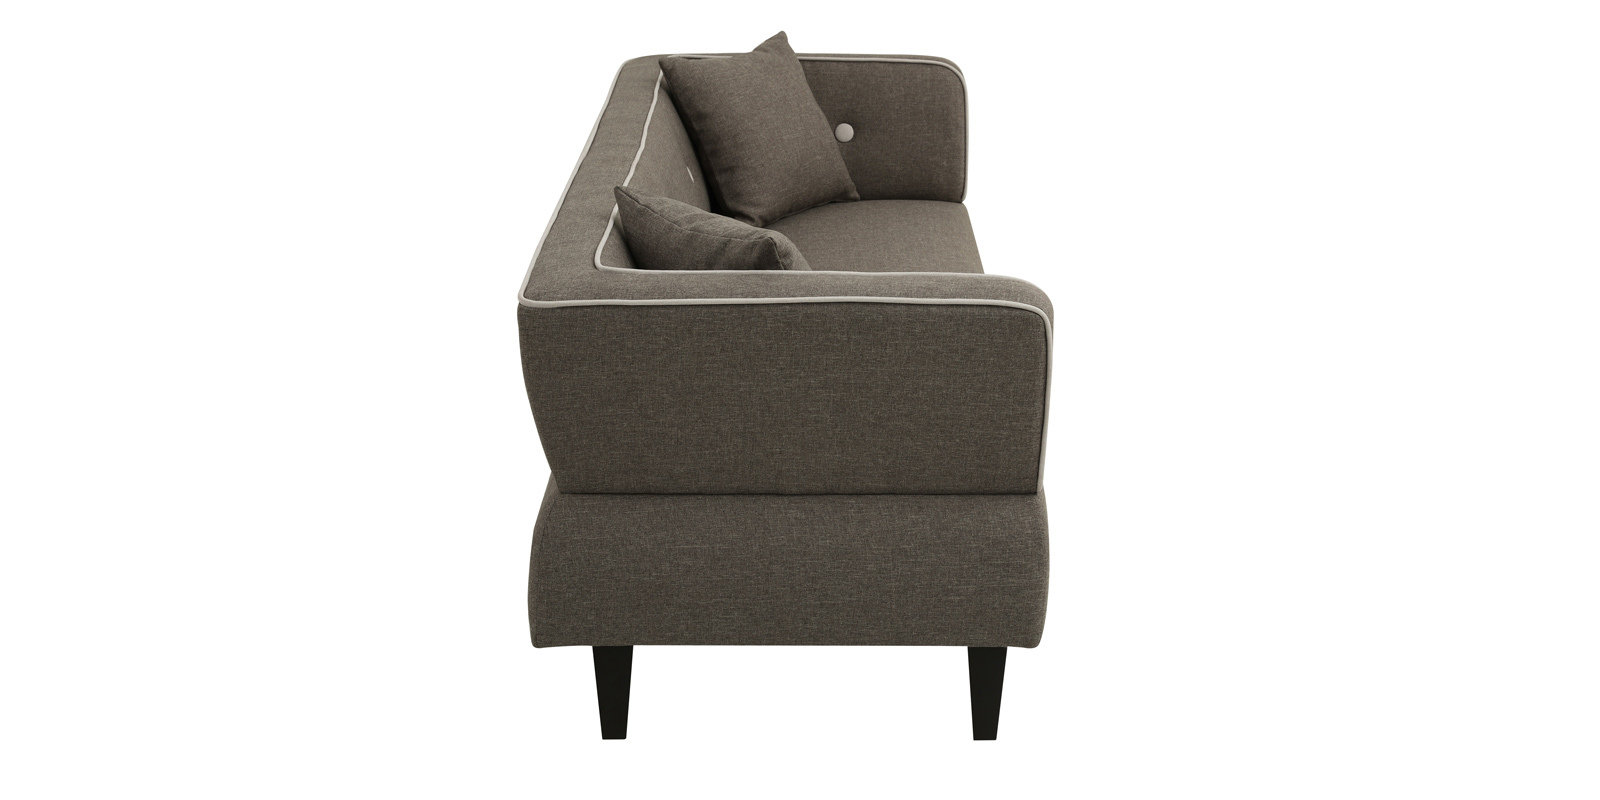Dime Three Seater Sofa in Grey Colour by Zofa: (521, 26, 1113, 771)
